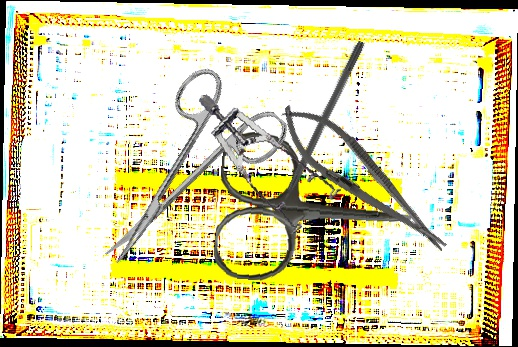Iris Scissors: (64, 54, 295, 295), (211, 129, 418, 294)
Needle Holder: (267, 91, 460, 268)
Pusher: (268, 39, 366, 224)
Speculum: (198, 71, 348, 247)
